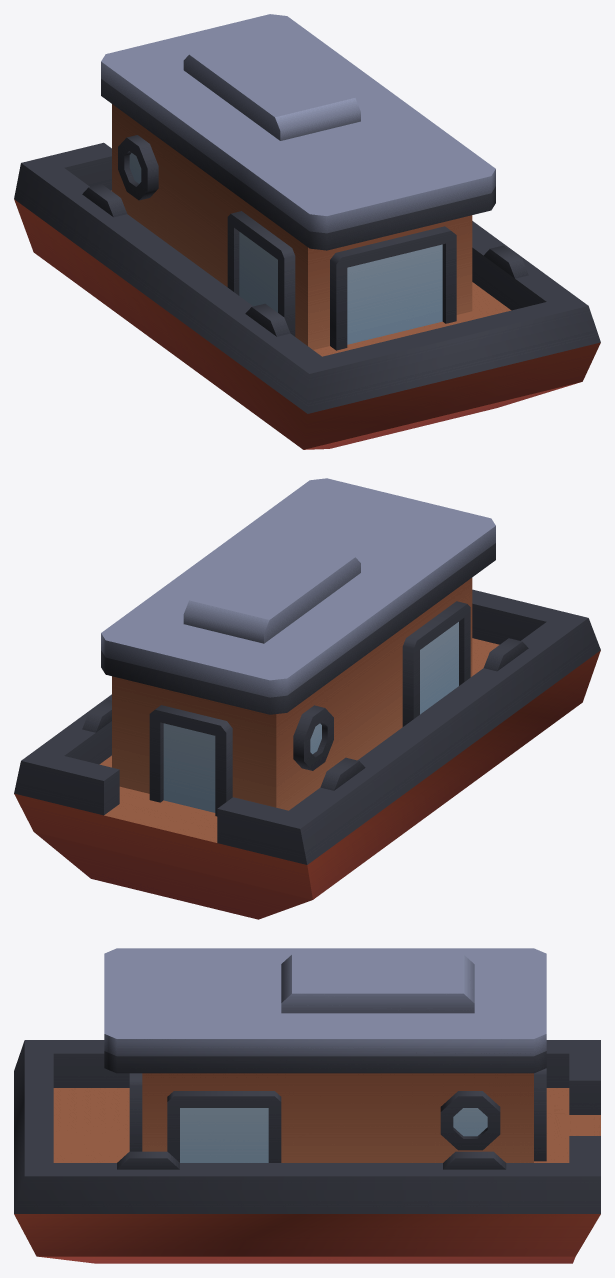
Rendered from boat_house_a.glb.
3 views of the same model, one above another, from view 1: azimuth 30°, elevation 25°; view 2: azimuth 150°, elevation 25°; view 3: azimuth 270°, elevation 25° (orthographic).
Visible parts, largest first — view 1: boat-house-a; view 2: boat-house-a; view 3: boat-house-a.
Boxes of the visible parts, left/top/right/bottom form: boat-house-a: left=14, top=14, right=600, bottom=449; boat-house-a: left=14, top=478, right=600, bottom=919; boat-house-a: left=14, top=948, right=600, bottom=1263.
Bounding box in the file's own units: 2.68 × 2.17 × 4.64.
1 material, 1 textured.
